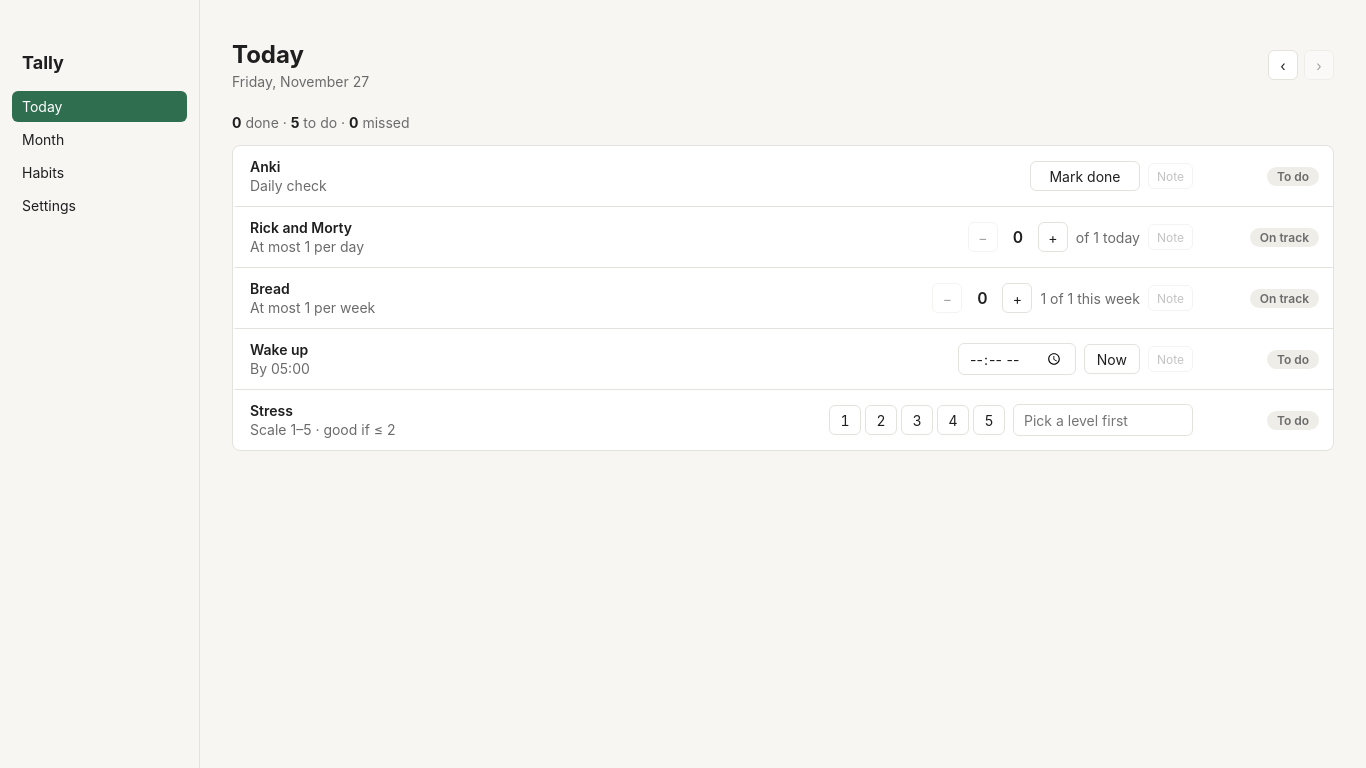
Test: TodayPage › counts the whole week for weekly limits
Expected: the text "1 of 1 this week" is shown, [1040,290,1140,306]
What coordinates should you click on to do the following:
click the button named "Increase Bread"
I would click on:
 (1017, 298)
Its box is [1002,283,1032,313].
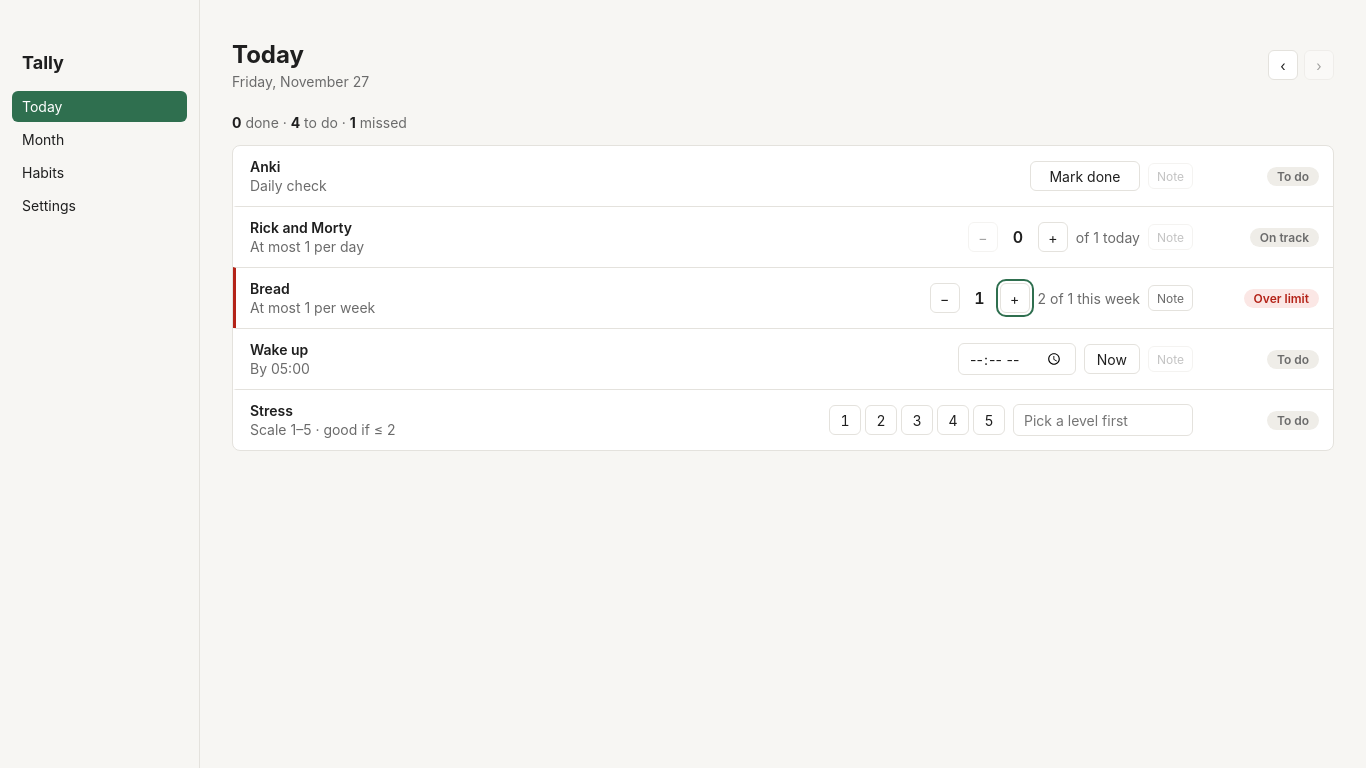
Expected: the text "2 of 1 this week" is shown, [1038,290,1140,306]
Expected: the text "Over limit" is shown, [1244,288,1319,308]
